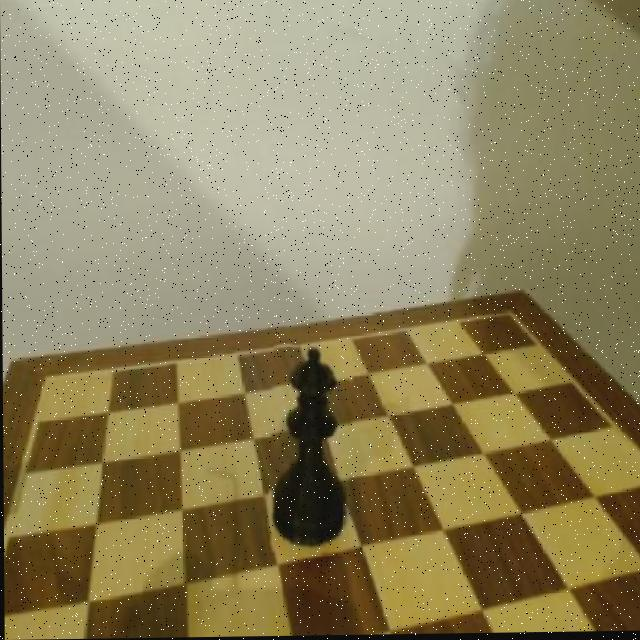black-pawn: (266, 345, 351, 556)
